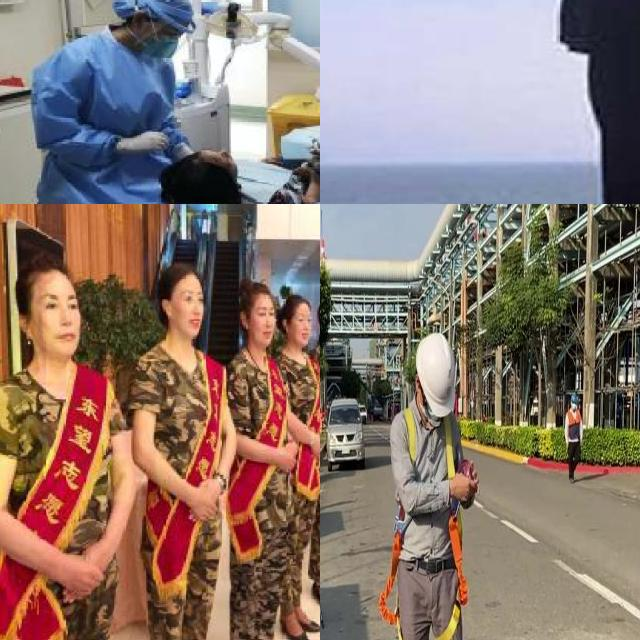Harness: (436, 515, 469, 640), (379, 530, 405, 640)
face_mask: (142, 21, 183, 64)
face_nomask: (22, 287, 86, 353), (170, 284, 210, 332), (245, 304, 276, 347), (285, 309, 317, 350)
hand_glove: (125, 130, 169, 155), (311, 131, 320, 167)
hand_noglove: (62, 555, 103, 601), (190, 484, 217, 523), (276, 447, 299, 475), (295, 164, 314, 176), (312, 434, 320, 459), (260, 158, 283, 166)
head_nohelmet: (135, 0, 198, 35), (16, 256, 80, 289), (160, 262, 202, 288), (237, 281, 273, 303), (280, 290, 310, 314)
person: (0, 258, 126, 640), (131, 253, 218, 640), (34, 0, 194, 204), (255, 257, 320, 640), (519, 0, 640, 204), (225, 265, 286, 640)
